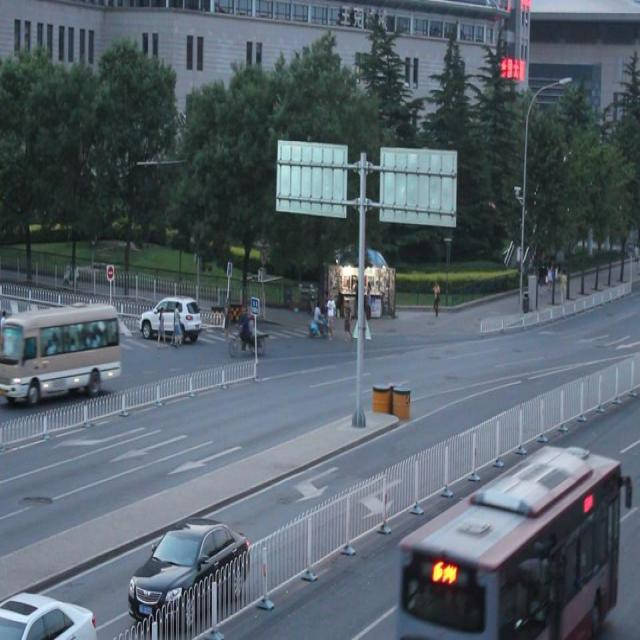car: (127, 518, 249, 627), (1, 590, 99, 640), (140, 294, 201, 341)
truck: (1, 301, 122, 398)
van: (402, 441, 619, 629)
